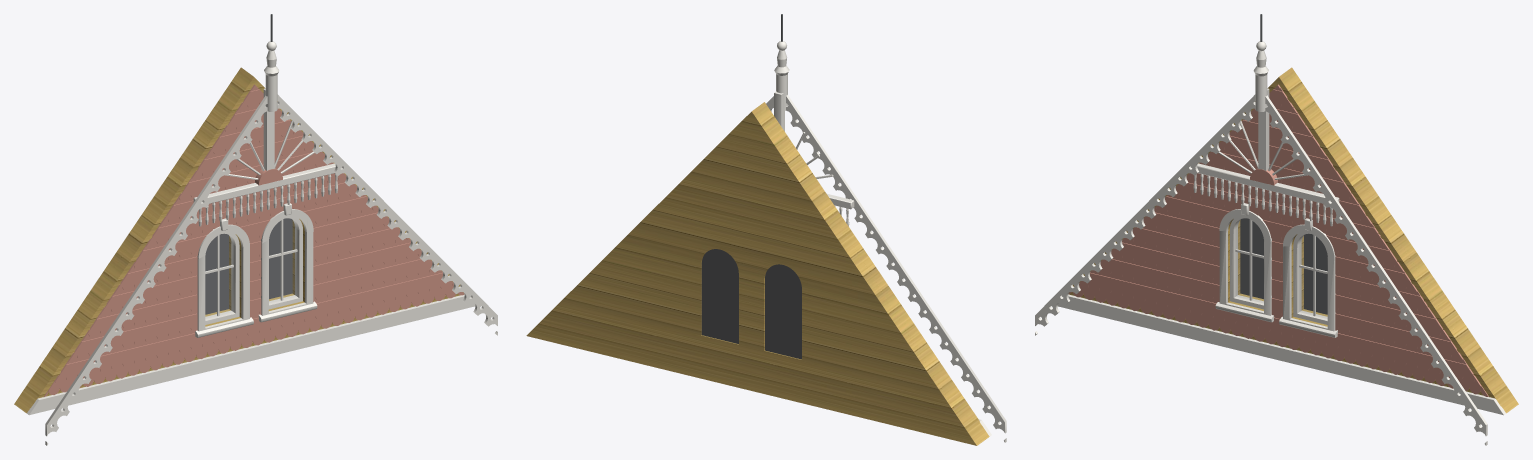
File: gable_front_a.glb
3 views of the same model, side by side, from view 1: azimuth 30°, elevation 25°; view 2: azimuth 150°, elevation 25°; view 3: azimuth 330°, elevation 25° (orthographic).
Visible parts, largest first — view 1: gable_front_a_acc_a, gable_front_a_trim, gable_front_a_siding_a, gable_front_a_glass, gable_front_a_dark, gable_front_a_frame; view 2: gable_front_a_siding_a, gable_front_a_dark, gable_front_a_trim; view 3: gable_front_a_acc_a, gable_front_a_trim, gable_front_a_siding_a, gable_front_a_glass, gable_front_a_dark, gable_front_a_frame.
Part boxes in pixels (x1=…): gable_front_a_acc_a: x1=44, y1=84, x2=464, y2=396; gable_front_a_trim: x1=27, y1=41, x2=497, y2=445; gable_front_a_siding_a: x1=14, y1=67, x2=463, y2=413; gable_front_a_glass: x1=206, y1=219, x2=296, y2=317; gable_front_a_dark: x1=205, y1=218, x2=292, y2=314; gable_front_a_frame: x1=205, y1=217, x2=302, y2=324; gable_front_a_siding_a: x1=526, y1=102, x2=989, y2=445; gable_front_a_dark: x1=701, y1=249, x2=801, y2=359; gable_front_a_trim: x1=766, y1=41, x2=1006, y2=442; gable_front_a_acc_a: x1=1068, y1=84, x2=1488, y2=396; gable_front_a_trim: x1=1035, y1=41, x2=1505, y2=445; gable_front_a_siding_a: x1=1069, y1=67, x2=1518, y2=413; gable_front_a_glass: x1=1236, y1=219, x2=1326, y2=317; gable_front_a_dark: x1=1240, y1=218, x2=1327, y2=314; gable_front_a_frame: x1=1230, y1=217, x2=1327, y2=324.
Size of the model in its own units: 6 by 4.75 by 0.7856.
Materials: 7 (1 with a texture image).
